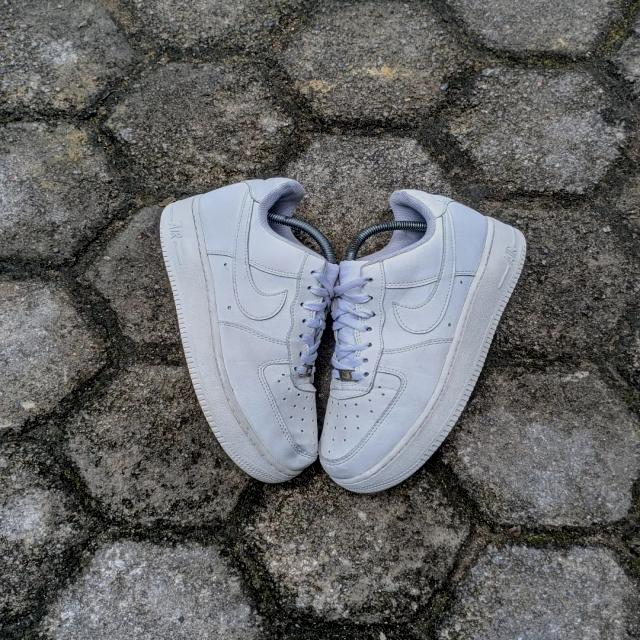nike_fake_airforce: (316, 193, 534, 498), (158, 178, 348, 480)
